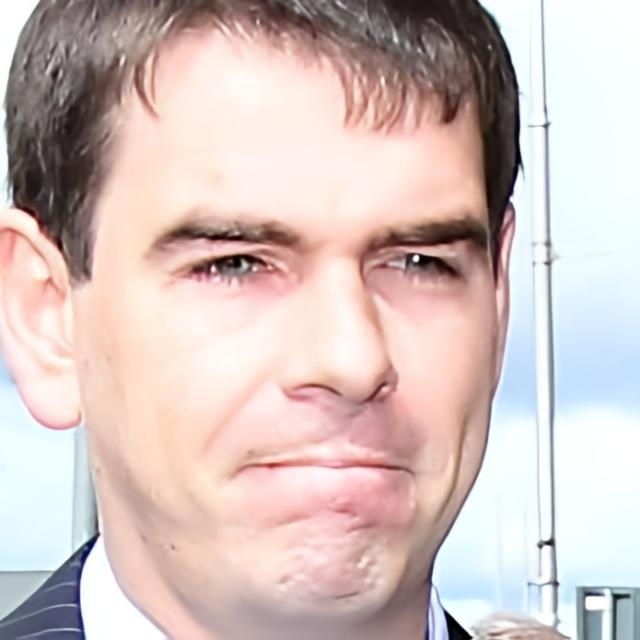anger: (82, 49, 497, 629)
